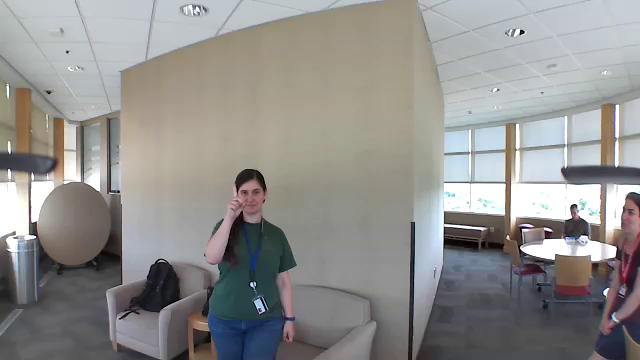up: (224, 183, 249, 221)
